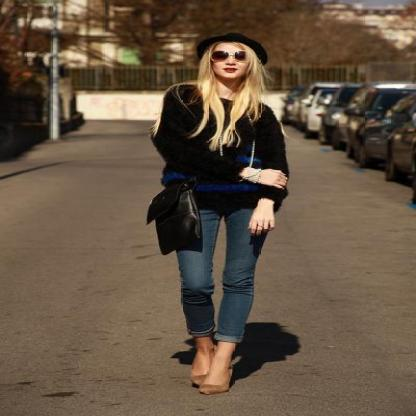bag: (146, 184, 202, 254)
hat: (190, 32, 266, 64)
jacket: (151, 84, 288, 220)
pants: (177, 208, 257, 340)
